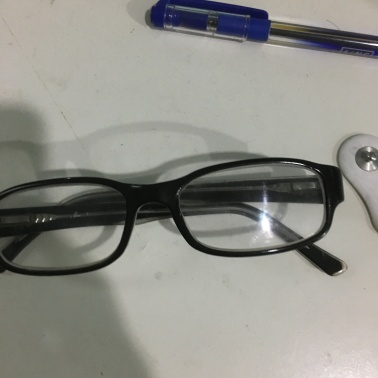glasses: (7, 177, 331, 265)
